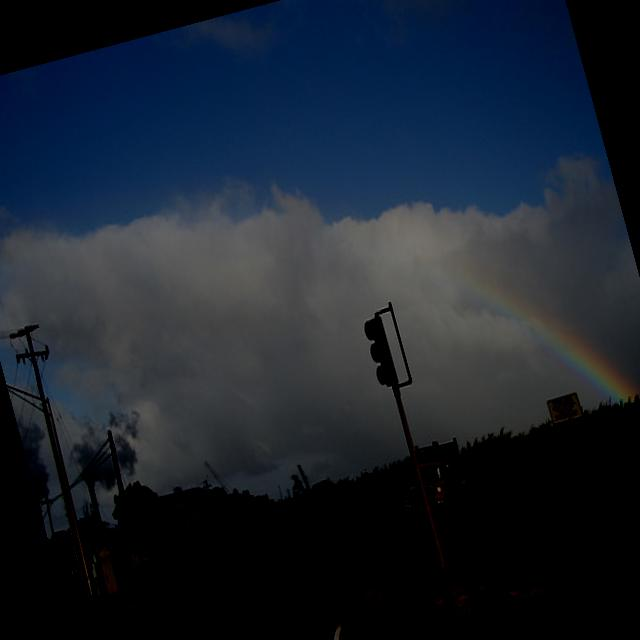Vehicle: (387, 434, 481, 540)
